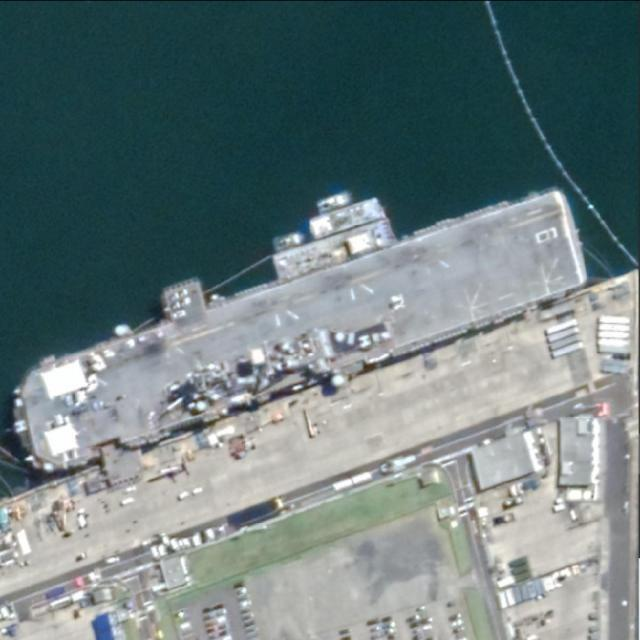Landing: (3, 184, 599, 475)
